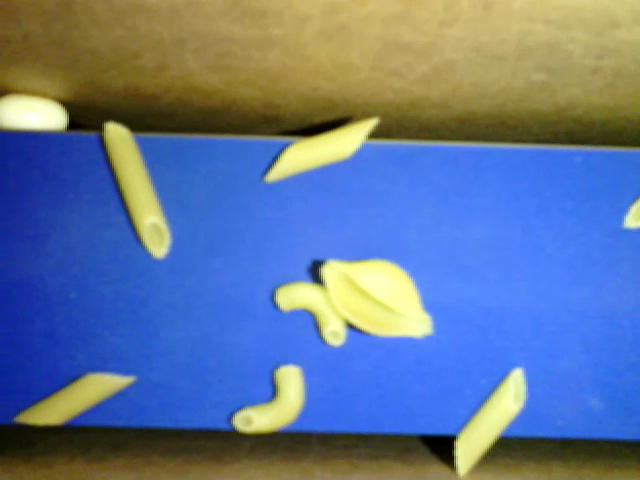elbow: (230, 365, 305, 436), (273, 282, 346, 347)
penne: (102, 120, 171, 259), (452, 365, 527, 475), (264, 117, 378, 181), (12, 371, 135, 427)
shell: (319, 258, 433, 342)
